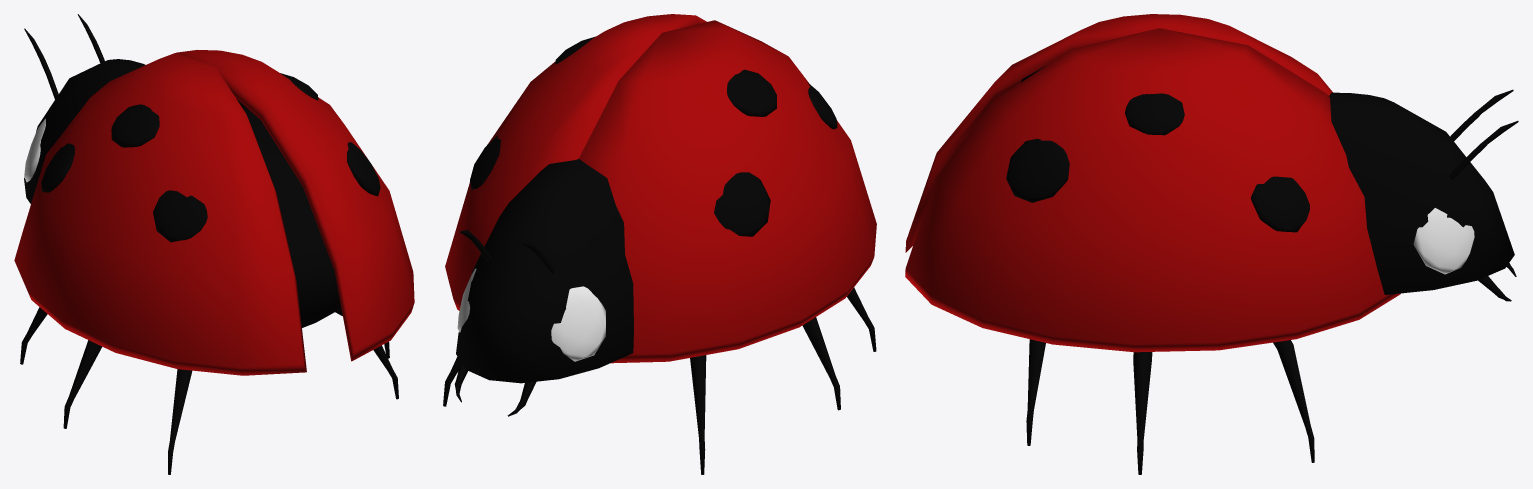
The model's file is ladyBirdSmoothed.fbx.
3 views of the same model, side by side, from view 1: azimuth 30°, elevation 25°; view 2: azimuth 150°, elevation 25°; view 3: azimuth 270°, elevation 25° (orthographic). The views are drawn at different scales.
Visible parts, largest first — view 1: Sphere, Sphere.001, Sphere.003, Sphere.002, Icosphere.001, Icosphere, Icosphere.005, Icosphere.002, Cylinder.001, Cylinder.002, Icosphere.007, Cylinder; view 2: Sphere, Sphere.002, Sphere.001, Icosphere.007, Icosphere.002, Icosphere, Cylinder, Cylinder.002, Icosphere.004, Icosphere.001, Cylinder.001; view 3: Sphere.001, Sphere.002, Sphere, Icosphere.005, Icosphere.006, Icosphere.004, Icosphere.003, Cylinder.003, Cylinder.004, Cylinder.005.
Boxes of the visible parts, x1=… form: Sphere: x1=14, y1=53, x2=306, y2=375; Sphere.001: x1=176, y1=50, x2=414, y2=361; Sphere.003: x1=242, y1=107, x2=341, y2=327; Sphere.002: x1=24, y1=59, x2=145, y2=203; Icosphere.001: x1=153, y1=190, x2=207, y2=242; Icosphere: x1=111, y1=104, x2=159, y2=147; Icosphere.005: x1=347, y1=142, x2=380, y2=196; Icosphere.002: x1=41, y1=143, x2=74, y2=192; Cylinder.001: x1=168, y1=369, x2=192, y2=474; Cylinder.002: x1=63, y1=340, x2=101, y2=428; Icosphere.007: x1=24, y1=118, x2=45, y2=182; Cylinder: x1=20, y1=307, x2=47, y2=364; Sphere: x1=579, y1=20, x2=876, y2=363; Sphere.002: x1=456, y1=159, x2=633, y2=383; Sphere.001: x1=445, y1=14, x2=706, y2=310; Icosphere.007: x1=551, y1=286, x2=605, y2=361; Icosphere.002: x1=714, y1=172, x2=770, y2=236; Icosphere: x1=727, y1=69, x2=776, y2=116; Cylinder: x1=690, y1=355, x2=706, y2=474; Cylinder.002: x1=802, y1=317, x2=840, y2=410; Icosphere.004: x1=470, y1=135, x2=500, y2=189; Icosphere.001: x1=807, y1=82, x2=837, y2=129; Cylinder.001: x1=847, y1=287, x2=876, y2=351; Sphere.001: x1=905, y1=28, x2=1400, y2=352; Sphere.002: x1=1329, y1=92, x2=1514, y2=294; Sphere: x1=905, y1=14, x2=1332, y2=252; Icosphere.005: x1=1006, y1=138, x2=1069, y2=202; Icosphere.006: x1=1413, y1=208, x2=1474, y2=274; Icosphere.004: x1=1250, y1=176, x2=1309, y2=232; Icosphere.003: x1=1125, y1=93, x2=1184, y2=135; Cylinder.003: x1=1133, y1=352, x2=1152, y2=474; Cylinder.004: x1=1273, y1=340, x2=1314, y2=462; Cylinder.005: x1=1026, y1=339, x2=1045, y2=445.
Size of the model in its own units: 138 by 132 by 202.
